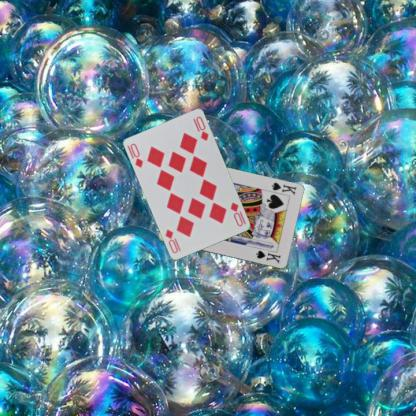10d: (228, 200, 245, 228), (128, 141, 144, 169)
Ks: (269, 180, 297, 196)
